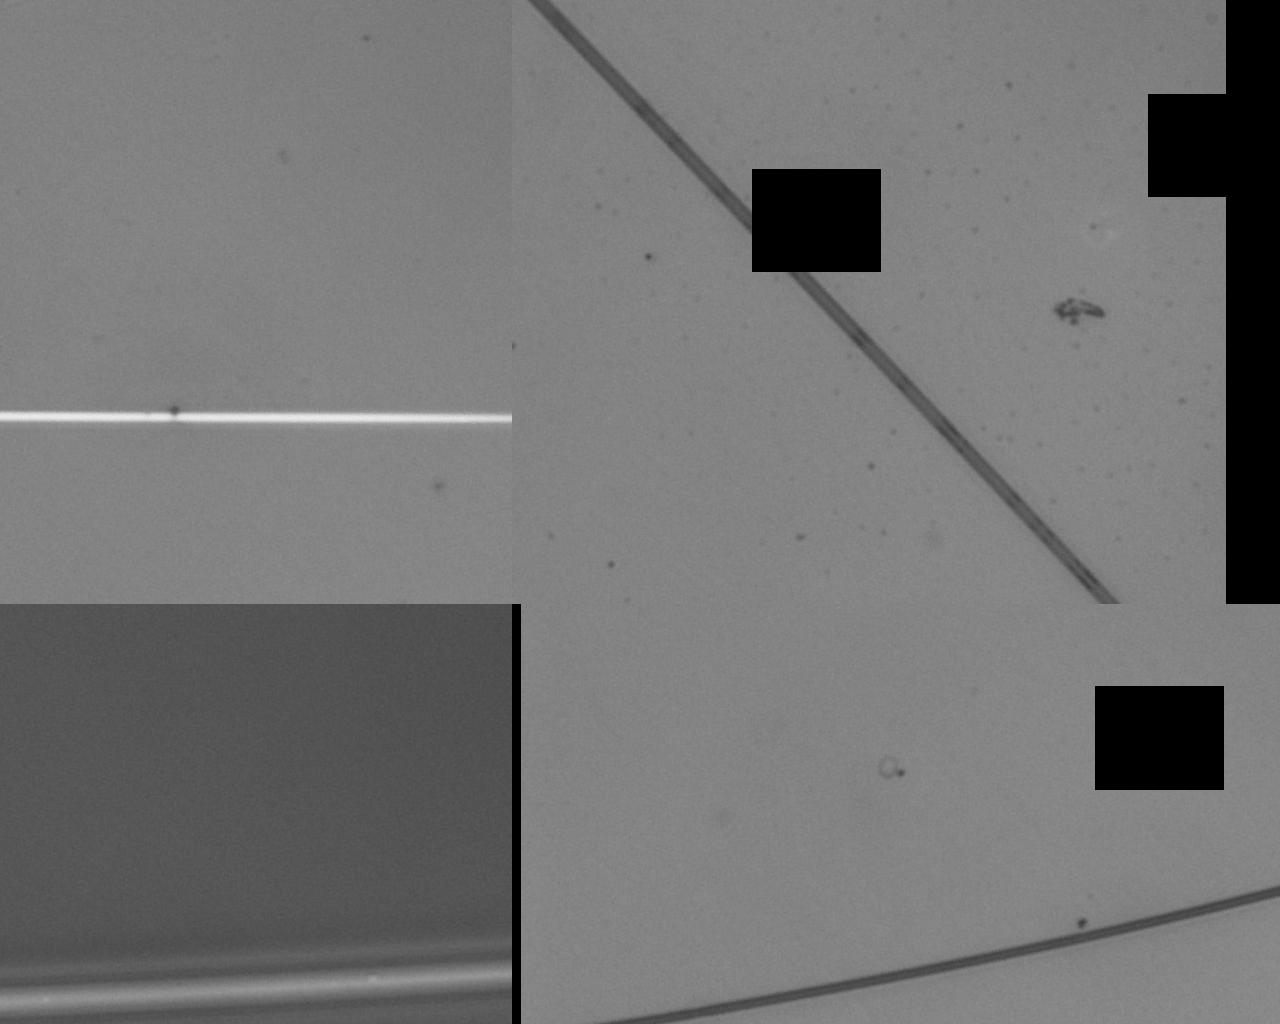fiber: (371, 0, 1280, 78), (371, 852, 754, 1024), (135, 0, 208, 594)
